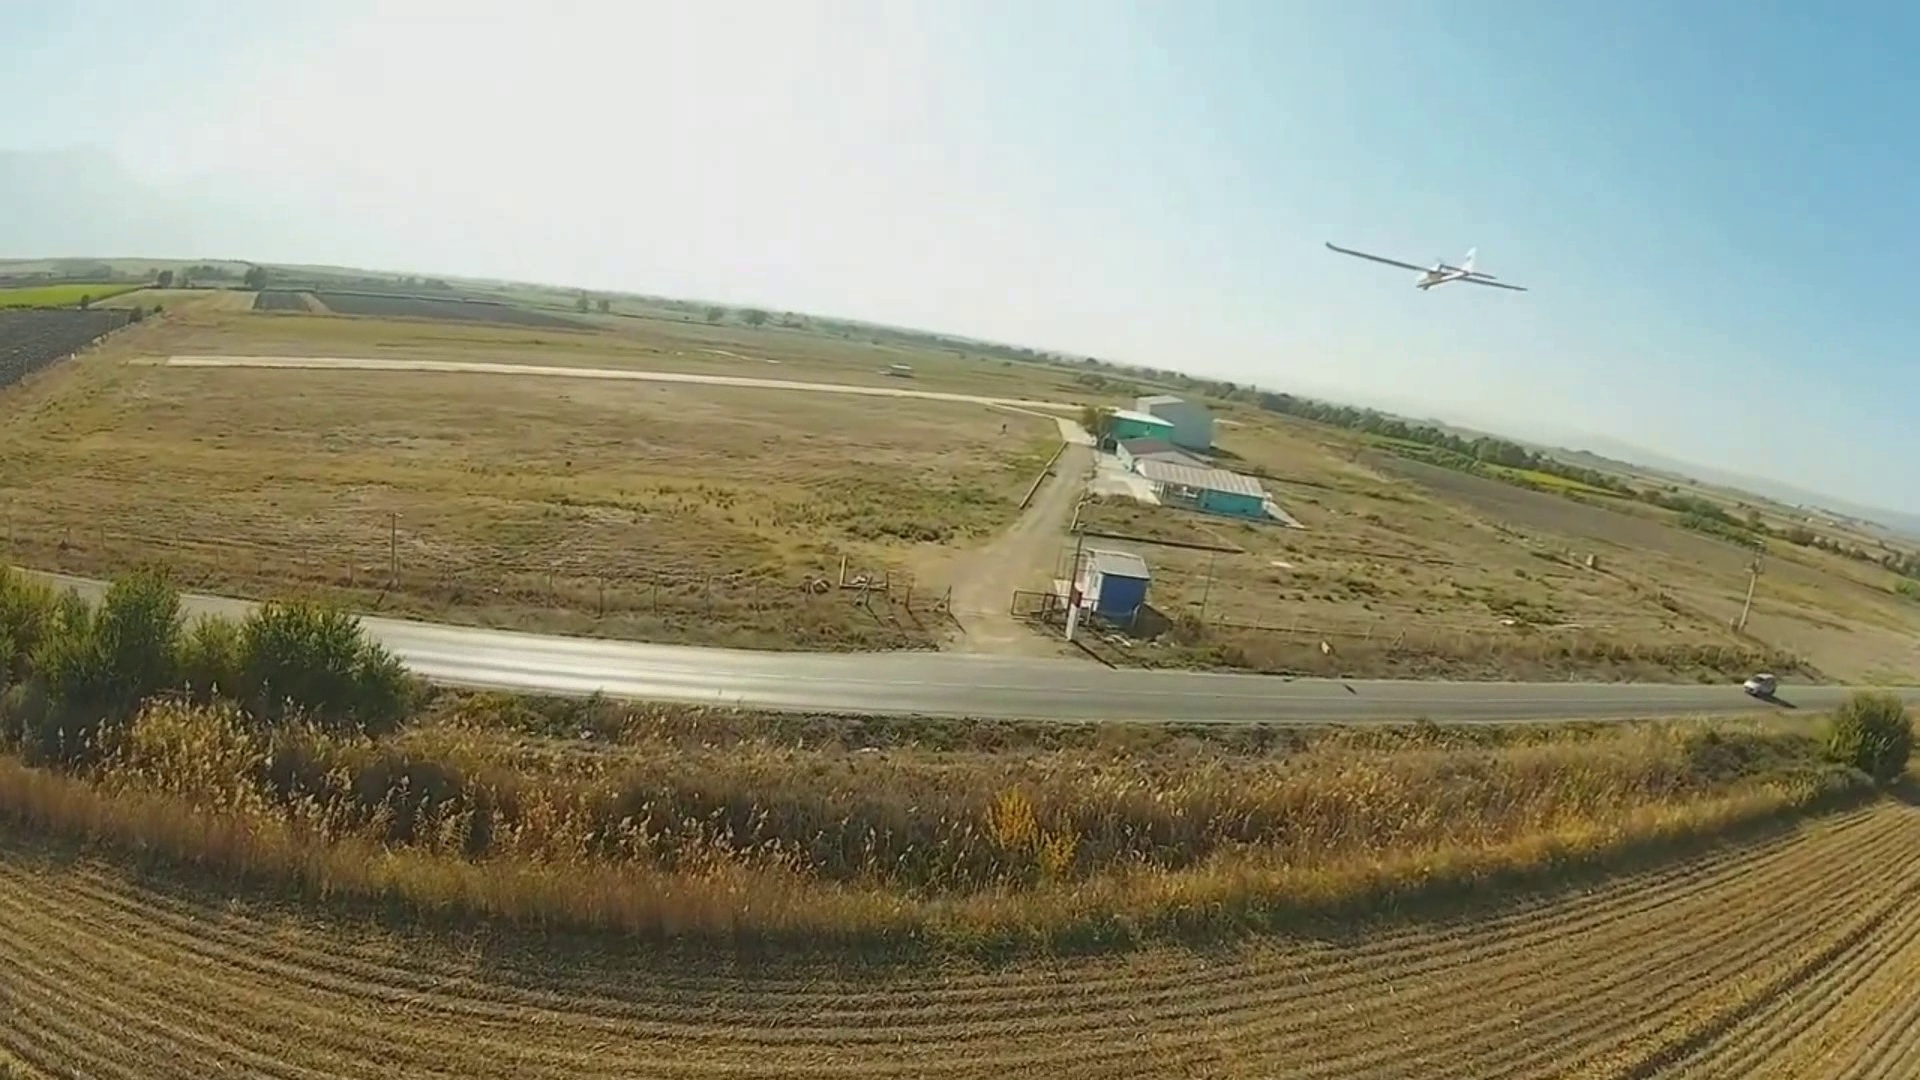airplane: (1322, 233, 1529, 295)
